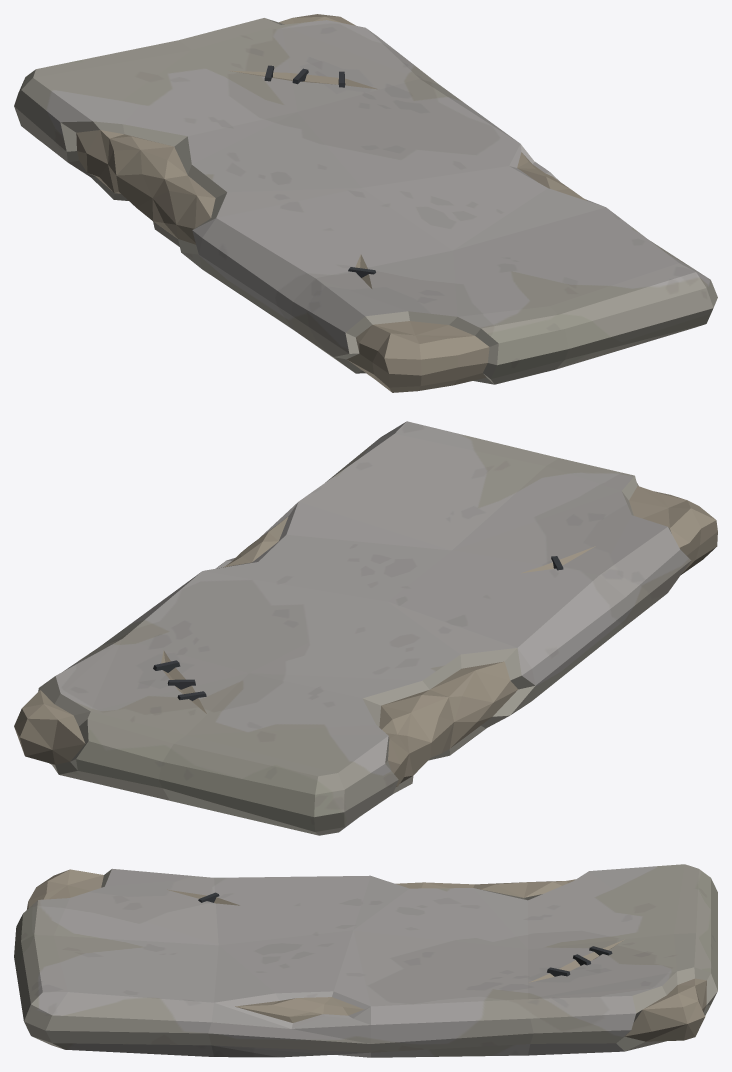
File: SM_Prop_Mattress_01.fbx
3 views of the same model, one above another, from view 1: azimuth 30°, elevation 25°; view 2: azimuth 150°, elevation 25°; view 3: azimuth 270°, elevation 25° (orthographic). The views are drawn at different scales.
Parts seen in each view (by area): view 1: SM_Prop_Mattress_01; view 2: SM_Prop_Mattress_01; view 3: SM_Prop_Mattress_01.
Boxes of the visible parts, x1=… form: SM_Prop_Mattress_01: x1=14, y1=14, x2=717, y2=392; SM_Prop_Mattress_01: x1=14, y1=421, x2=717, y2=835; SM_Prop_Mattress_01: x1=14, y1=864, x2=717, y2=1057.
Bounding box in the file's own units: 109 × 22.59 × 226.
